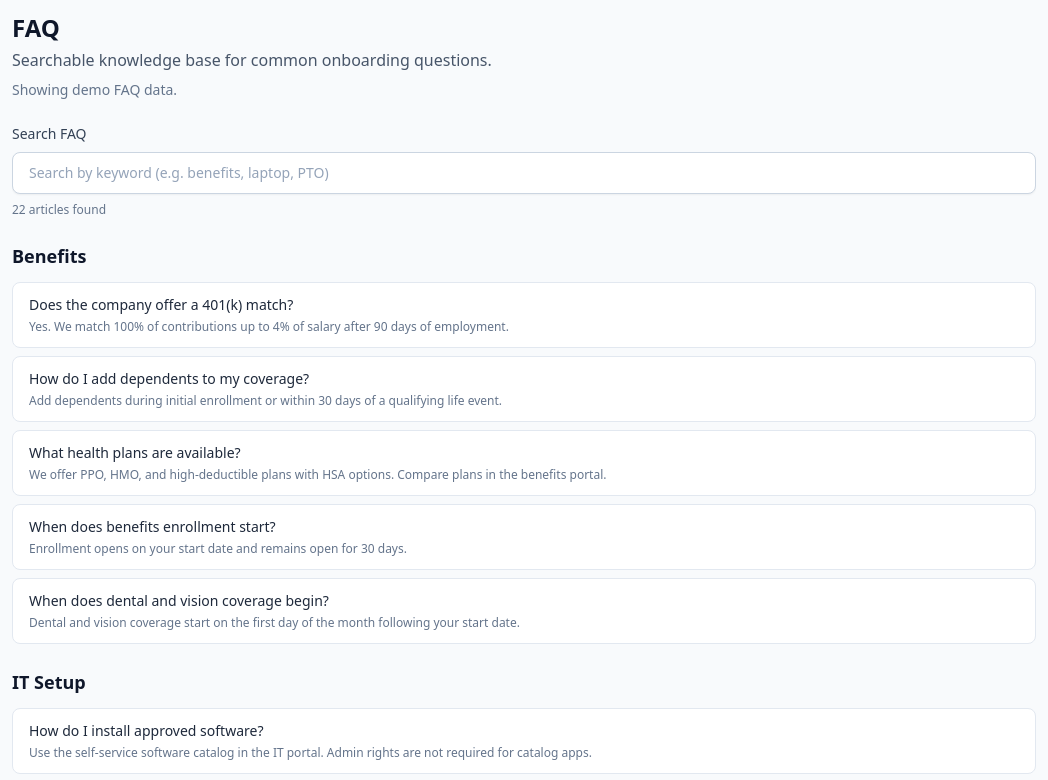
Scenario: FaqPage (WO-024) › renders search, categories, and opens article detail
Expected: the heading "FAQ" is shown, [12,11,60,44]
Expected: the search field labelled "Search FAQ" is shown, [12,152,1036,194]
Click the button "When does benefits enrollment start?" at (152, 526), box [12,504,1036,570]
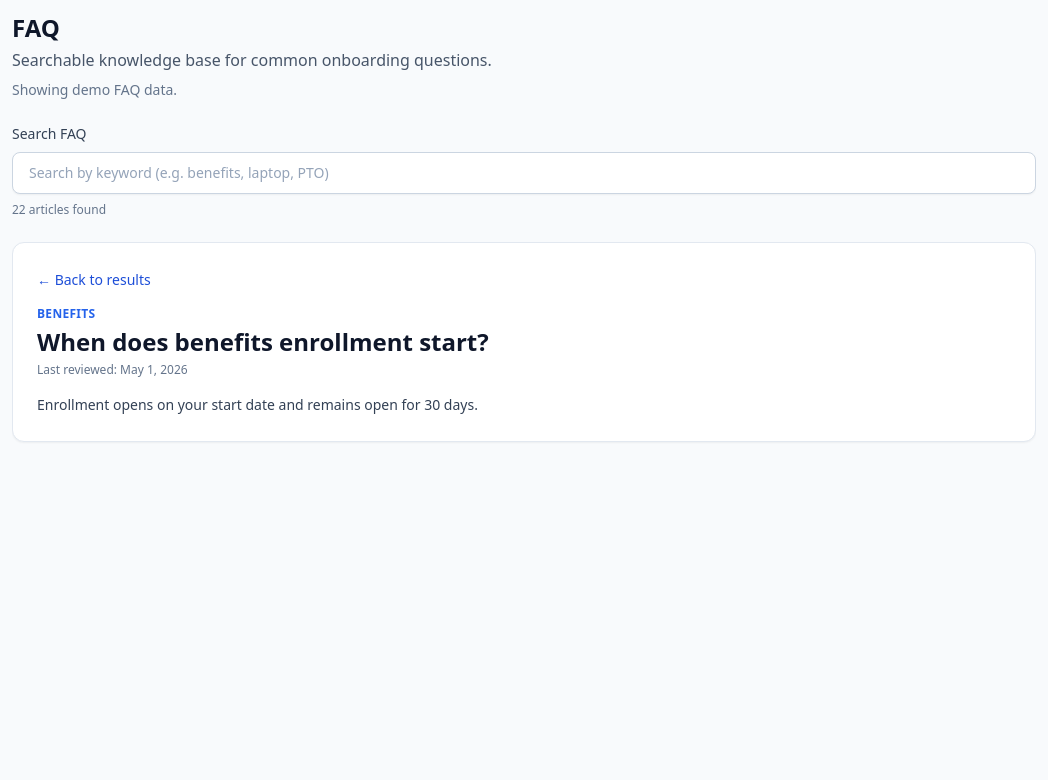
Expected: the heading "When does benefits enrollment start?" is shown, [37,325,489,358]
Now the button "← Back to results" is shown, box [37,270,151,290]
